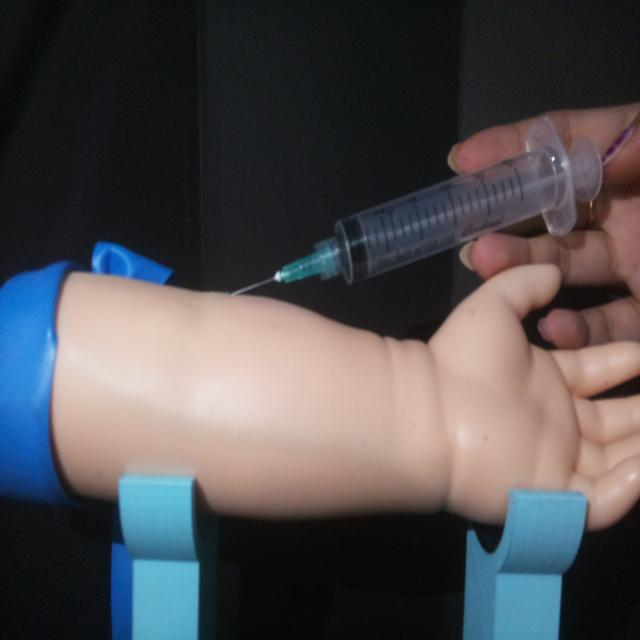24deg: (226, 113, 606, 301)
